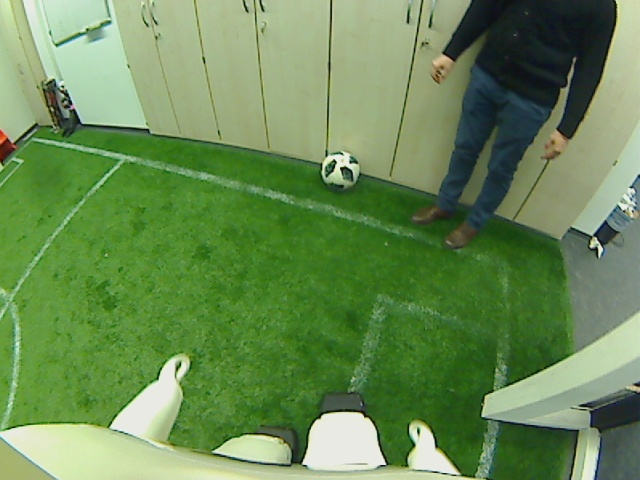ball: (319, 151, 360, 190)
